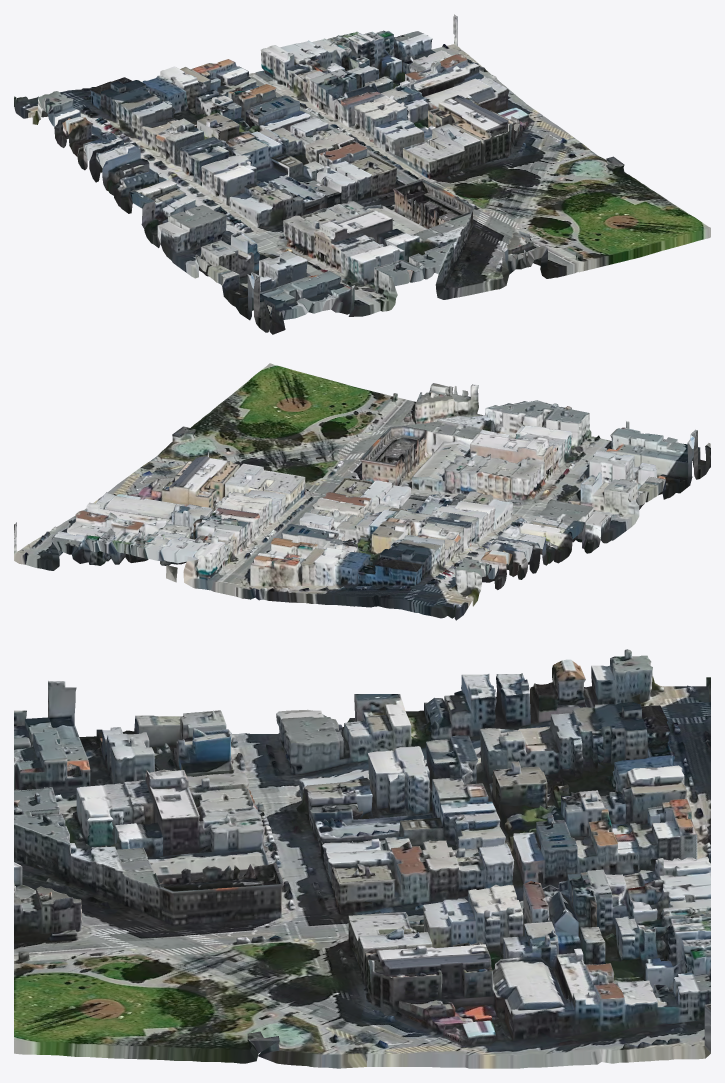
The model's file is z17-20967-50650-h0-yup-uvflip-v3-world.glb.
The picture shows the model from 3 angles, top to bottom: view 1: azimuth 30°, elevation 25°; view 2: azimuth 150°, elevation 25°; view 3: azimuth 270°, elevation 25°; orthographic projection. The views are drawn at different scales.
Bounding box in the file's own units: 242 × 48.64 × 243.
1 material, 1 textured.
